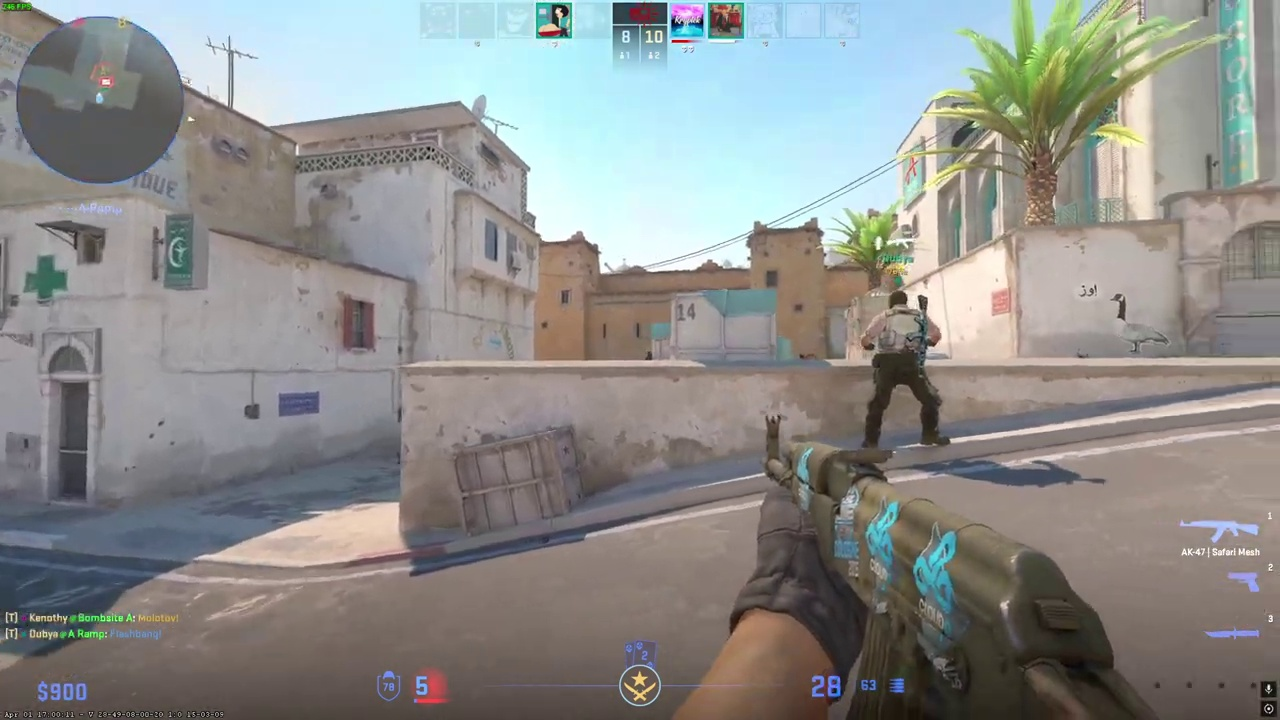Terrorist: (859, 289, 948, 451)
